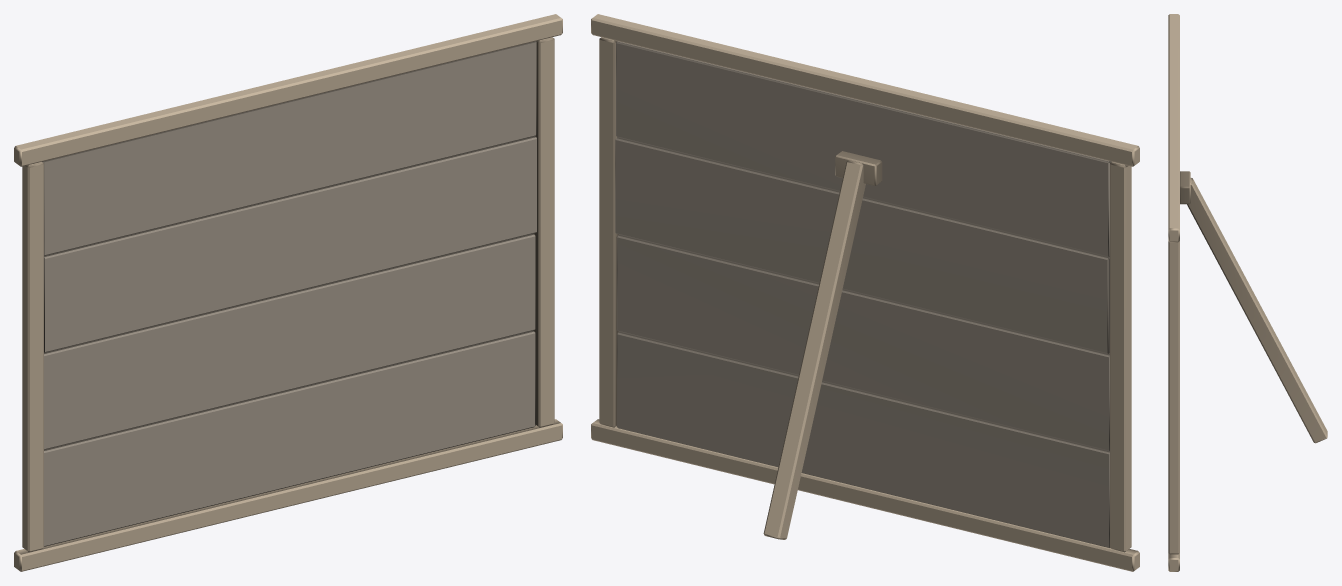
File: camp_board.glb
3 views of the same model, side by side, from view 1: azimuth 30°, elevation 25°; view 2: azimuth 150°, elevation 25°; view 3: azimuth 270°, elevation 25° (orthographic). The views are drawn at different scales.
Parts seen in each view (by area): view 1: static; view 2: static; view 3: static.
Boxes of the visible parts, bbox=[...] form: static: bbox=[14, 14, 562, 571]; static: bbox=[591, 14, 1139, 571]; static: bbox=[1168, 14, 1327, 571].
Bounding box in the file's own units: 1.32 × 0.98 × 0.4124.
